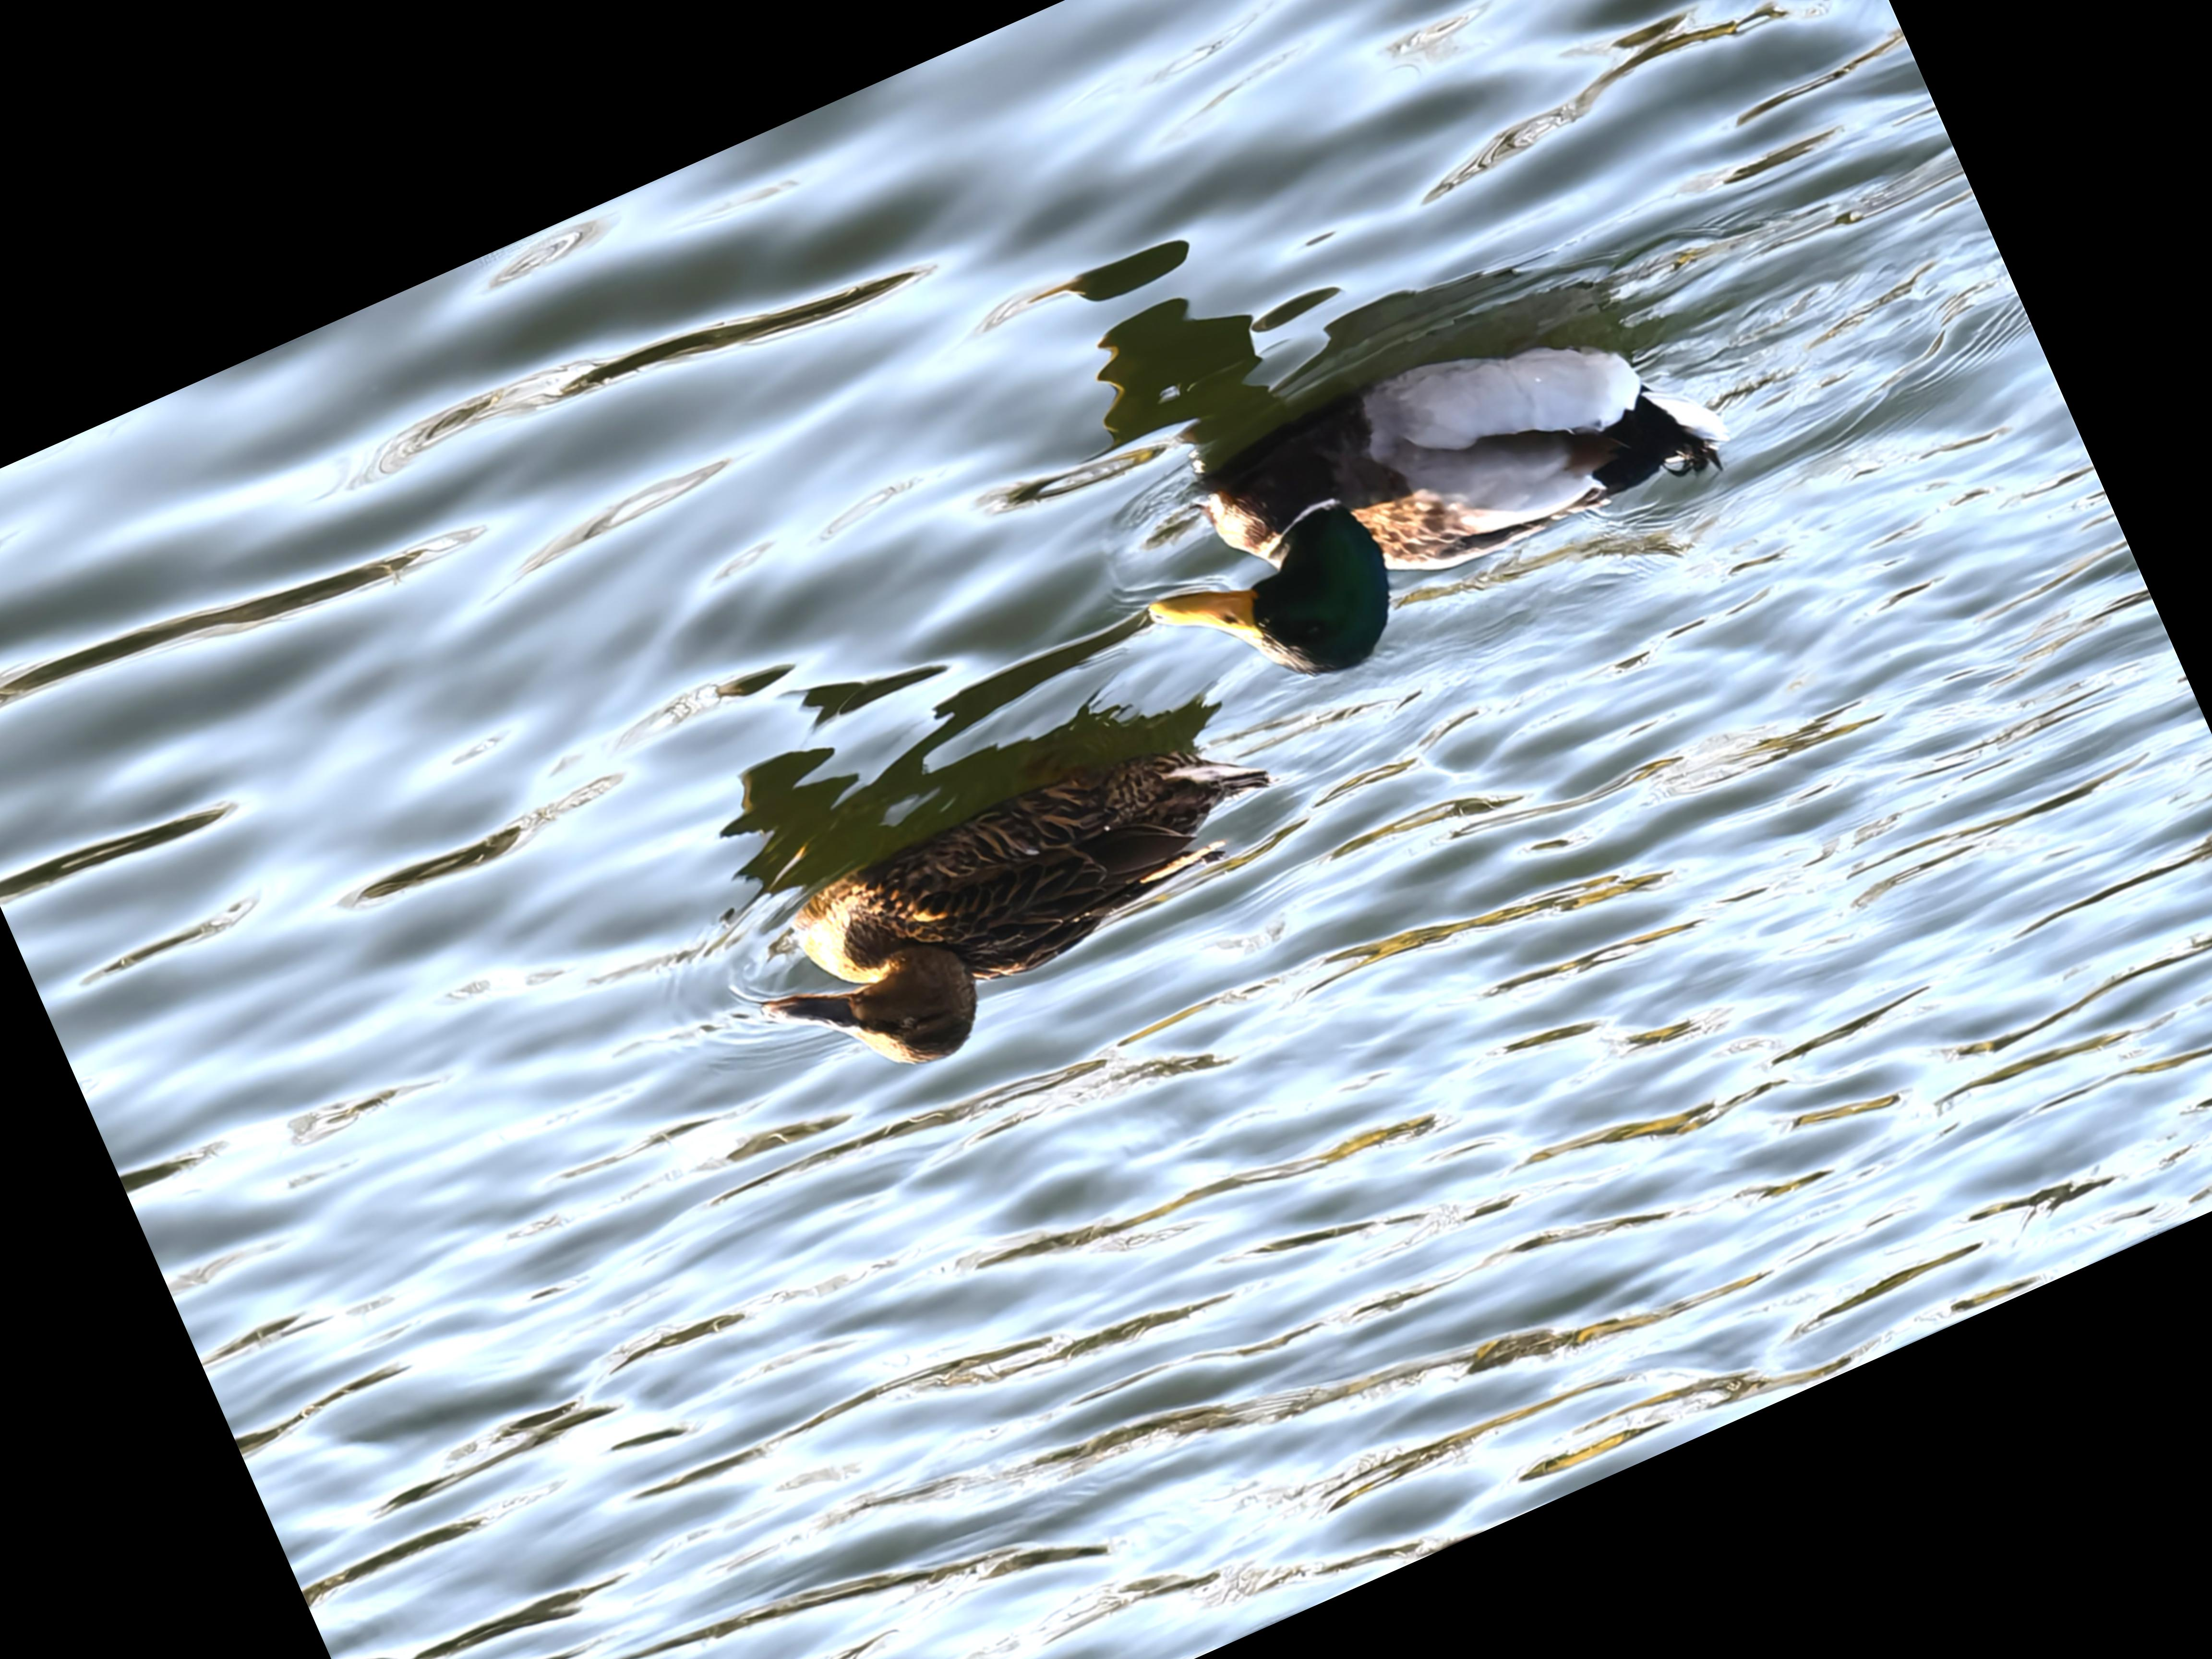duck: (1073, 218, 1791, 767), (700, 660, 1341, 1138)
